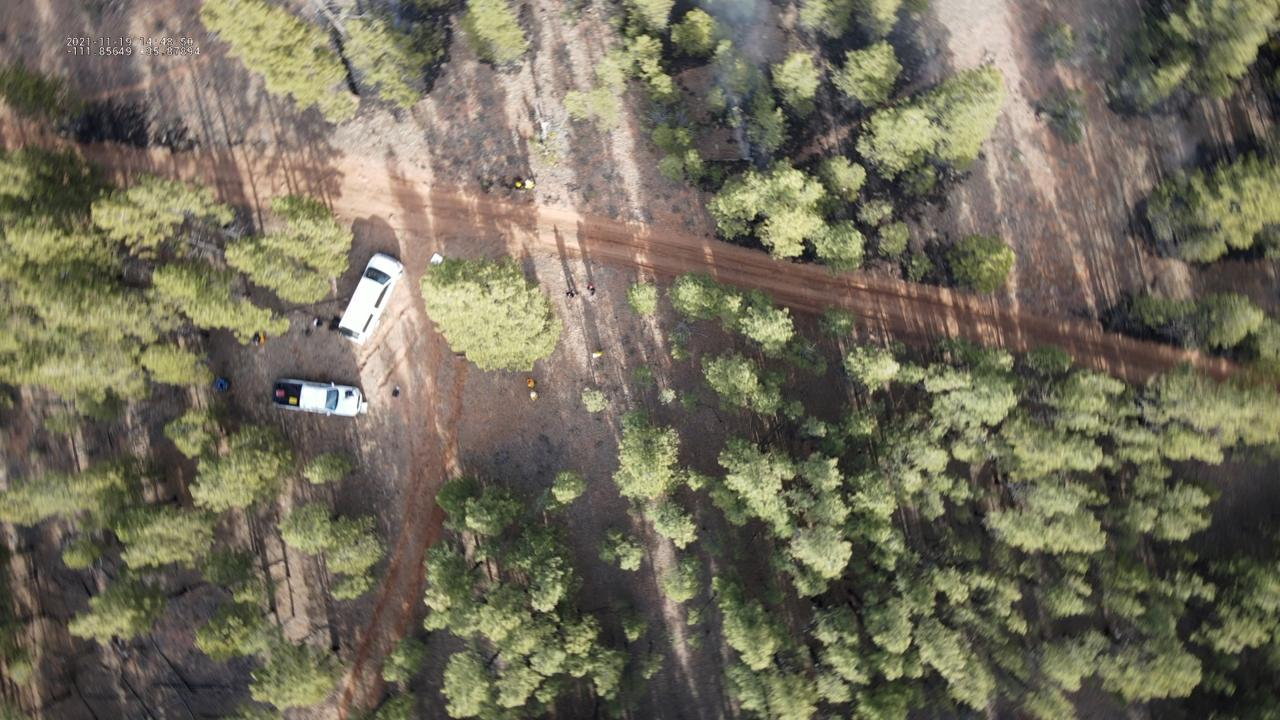smoke: (701, 0, 773, 162)
